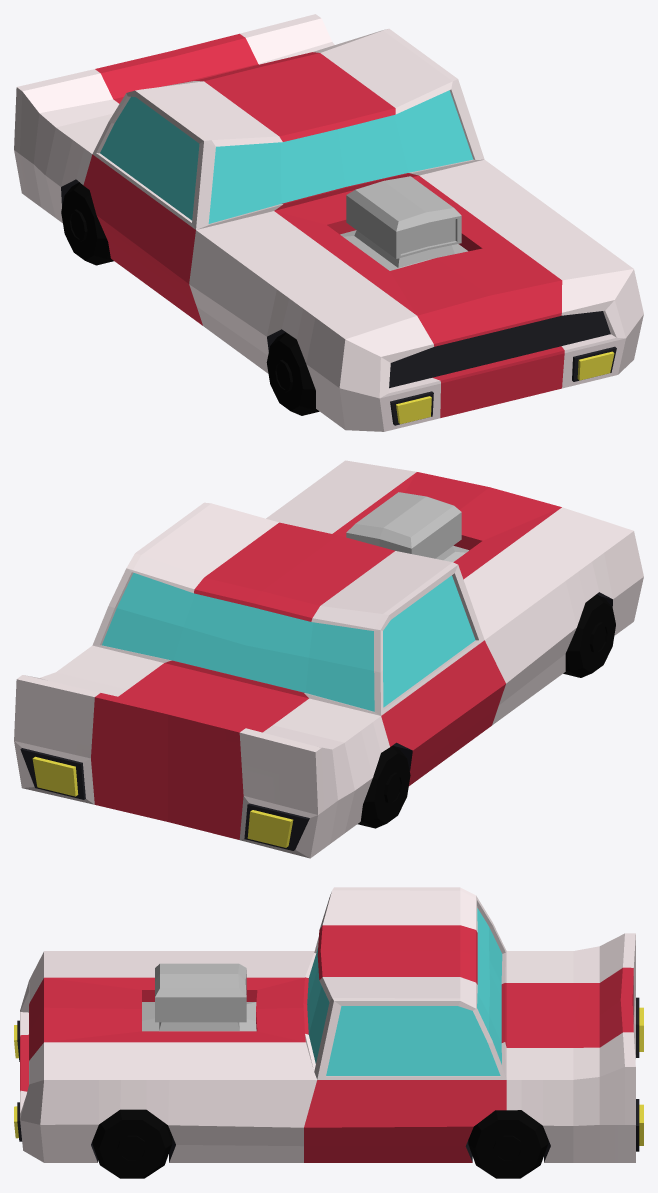
The model's file is RaceCar.fbx.
The picture shows the model from 3 angles, top to bottom: view 1: azimuth 30°, elevation 25°; view 2: azimuth 150°, elevation 25°; view 3: azimuth 270°, elevation 25°; orthographic projection. The views are drawn at different scales.
Parts seen in each view (by area): view 1: Cube, FrontWheels, FrontWheels.001; view 2: Cube, FrontWheels, FrontWheels.001; view 3: Cube, FrontWheels, FrontWheels.001.
Boxes of the visible parts, x1,y1,x2,y2 form: Cube: (14,14,643,431); FrontWheels: (266,332,319,415); FrontWheels.001: (61,182,113,265); Cube: (14,460,643,858); FrontWheels: (563,594,615,677); FrontWheels.001: (357,745,410,828); Cube: (14,887,643,1162); FrontWheels: (92,1109,172,1178); FrontWheels.001: (468,1110,548,1178).
Size of the model in its own units: 263 by 145 by 491.
2 materials, 1 textured.
